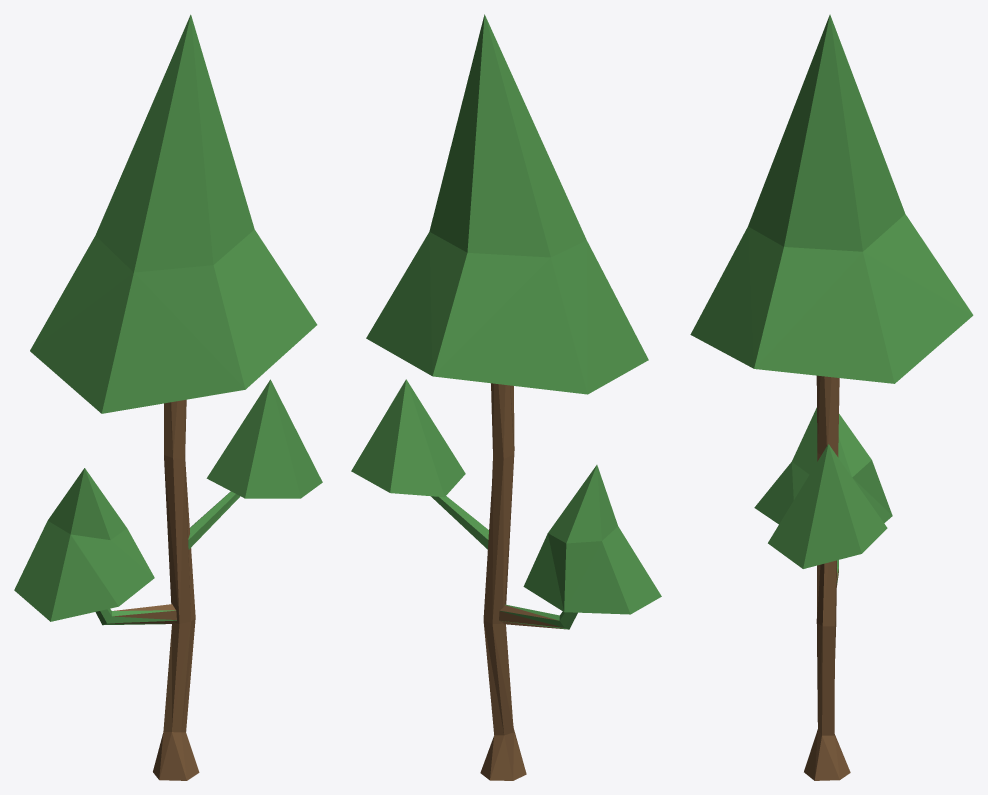
Rendered from tree3d-040.glb.
3 views of the same model, side by side, from view 1: azimuth 30°, elevation 25°; view 2: azimuth 150°, elevation 25°; view 3: azimuth 270°, elevation 25° (orthographic).
Parts seen in each view (by area): view 1: tree3d-040; view 2: tree3d-040; view 3: tree3d-040.
Part boxes in pixels (bbox=[...]): tree3d-040: bbox=[14, 14, 322, 780]; tree3d-040: bbox=[351, 14, 661, 780]; tree3d-040: bbox=[690, 14, 973, 780].
Bounding box in the file's own units: 0.3889 × 1 × 0.3349.
